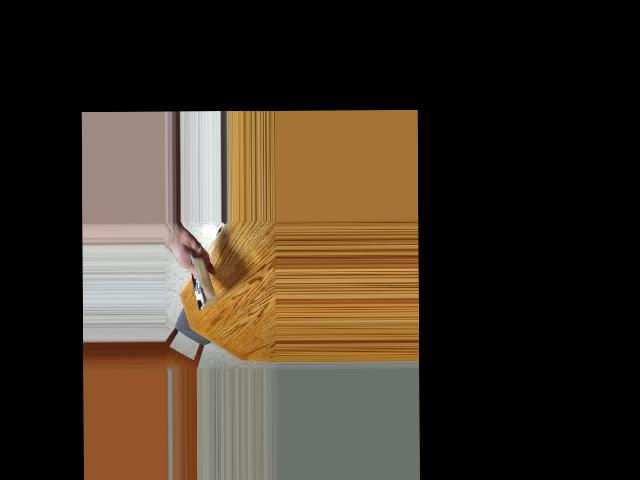cheese: (178, 256, 222, 308)
